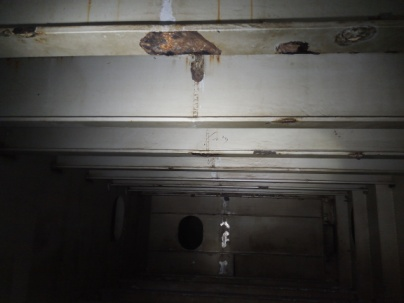corrosion: (138, 20, 230, 60), (326, 22, 383, 47), (179, 54, 216, 91), (273, 41, 322, 62), (275, 111, 320, 132), (4, 20, 47, 41), (252, 144, 281, 158), (336, 149, 365, 161)
